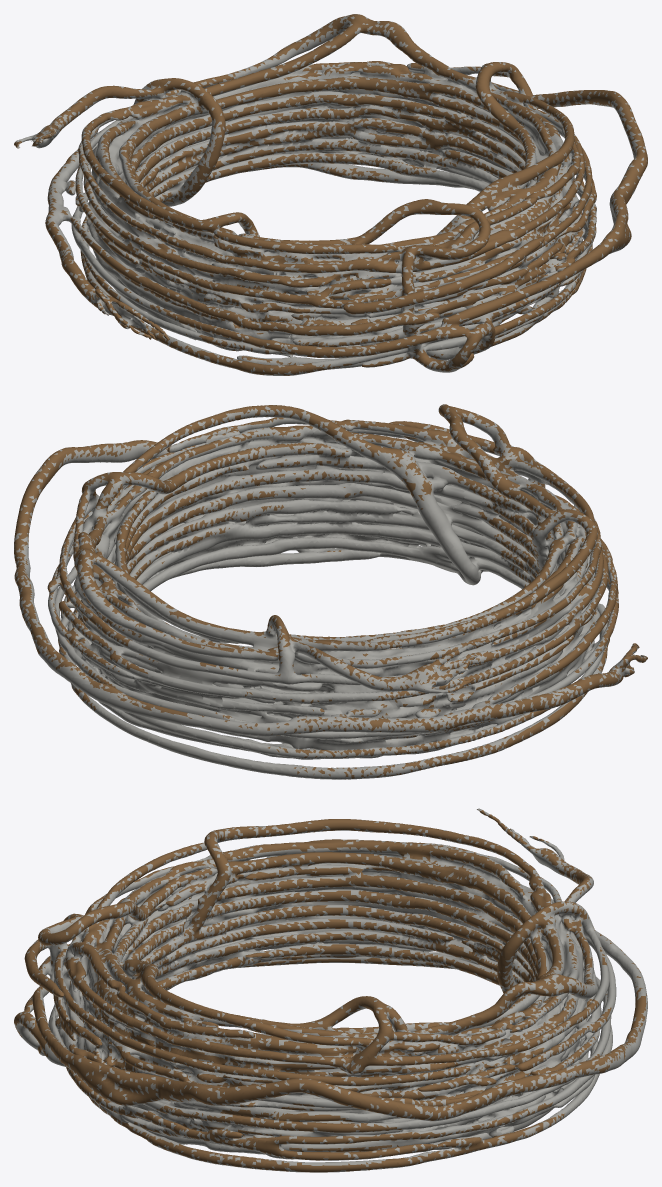
Rendered from rollo_alambre_pintado.fbx.
3 views of the same model, one above another, from view 1: azimuth 30°, elevation 25°; view 2: azimuth 150°, elevation 25°; view 3: azimuth 270°, elevation 25° (orthographic). The views are drawn at different scales.
Visible parts, largest first — view 1: tmpackq0_o7.ply.001; view 2: tmpackq0_o7.ply.001; view 3: tmpackq0_o7.ply.001.
Part boxes in pixels (left/top/right/bottom): tmpackq0_o7.ply.001: left=14, top=14, right=647, bottom=375; tmpackq0_o7.ply.001: left=14, top=404, right=647, bottom=779; tmpackq0_o7.ply.001: left=14, top=808, right=647, bottom=1172.
Size of the model in its own units: 199 by 54.41 by 194.
